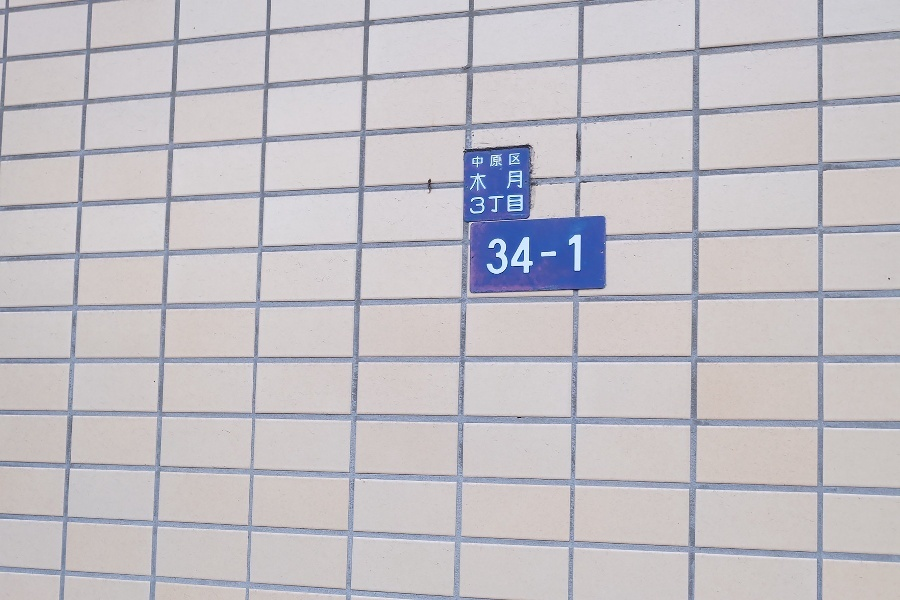text: (497, 234, 512, 278), (513, 234, 528, 278), (529, 234, 544, 278), (545, 234, 560, 278), (561, 234, 576, 278), (487, 234, 496, 278), (481, 194, 496, 217), (497, 194, 512, 217), (481, 170, 496, 192), (497, 170, 512, 192), (481, 152, 496, 170), (497, 152, 512, 170), (577, 234, 583, 278), (469, 194, 480, 217), (513, 194, 524, 217), (470, 170, 480, 192), (513, 170, 523, 192), (472, 152, 480, 170), (513, 152, 521, 170)
